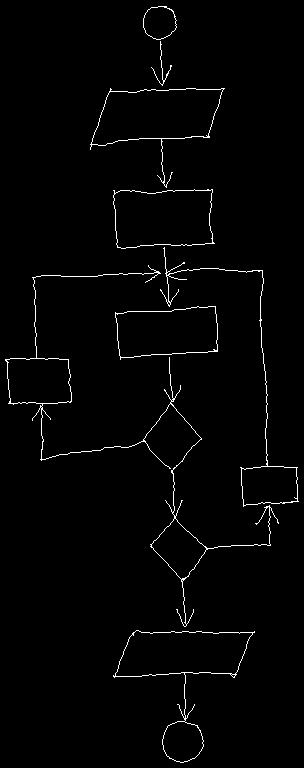arrow: (165, 262, 267, 465), (32, 265, 160, 357), (32, 404, 145, 460), (207, 505, 278, 549), (160, 247, 178, 306), (151, 41, 171, 85), (177, 672, 194, 720), (165, 472, 182, 518), (176, 580, 193, 626), (157, 138, 172, 187), (164, 357, 180, 401)
connection: (162, 721, 203, 762), (143, 6, 176, 39)
data: (90, 88, 224, 149), (113, 630, 254, 677)
decision: (143, 401, 201, 473), (150, 517, 207, 580)
process: (113, 189, 214, 248), (115, 306, 217, 359), (5, 358, 71, 404), (240, 466, 298, 506)
